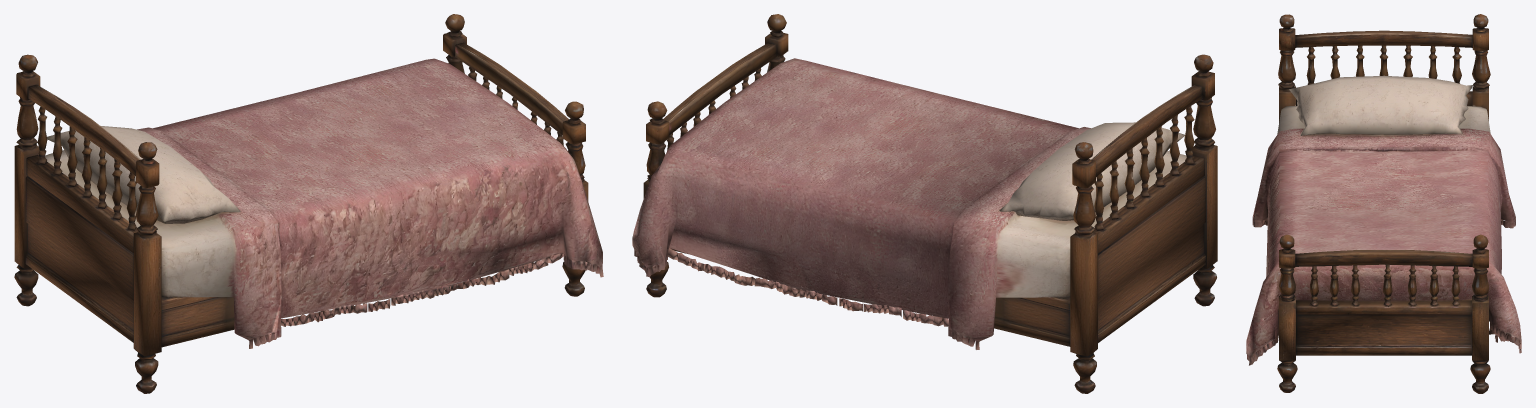
The picture shows the model from 3 angles, left to right: view 1: azimuth 30°, elevation 25°; view 2: azimuth 150°, elevation 25°; view 3: azimuth 270°, elevation 25°; orthographic projection. The views are drawn at different scales.
Parts seen in each view (by area): view 1: tripo_node_a14196e7-a8dc-441b-bbe4-30baa798b8f1; view 2: tripo_node_a14196e7-a8dc-441b-bbe4-30baa798b8f1; view 3: tripo_node_a14196e7-a8dc-441b-bbe4-30baa798b8f1.
Part boxes in pixels (<box>): tripo_node_a14196e7-a8dc-441b-bbe4-30baa798b8f1: <box>14,14,603,393</box>; tripo_node_a14196e7-a8dc-441b-bbe4-30baa798b8f1: <box>632,14,1217,393</box>; tripo_node_a14196e7-a8dc-441b-bbe4-30baa798b8f1: <box>1246,14,1521,393</box>.
Bounding box in the file's own units: 0.998 × 0.5488 × 0.6582.
1 material, 1 textured.
